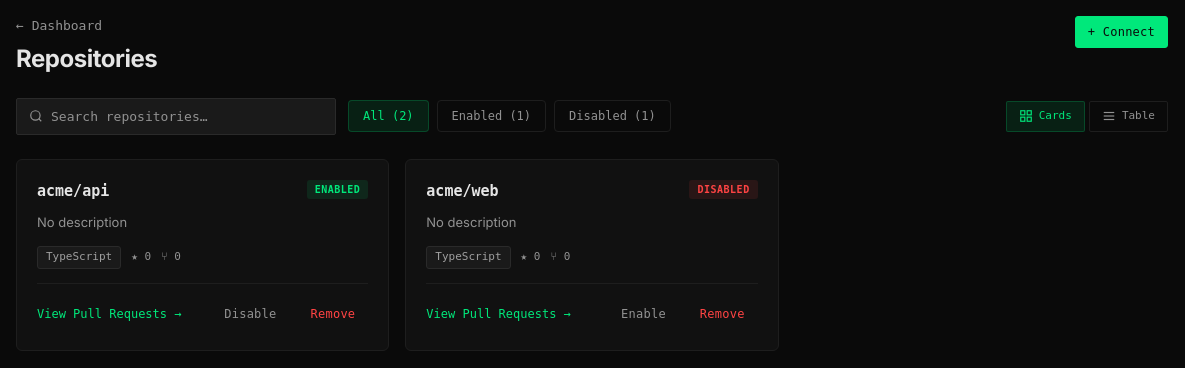
Test: RepositoryListComponent — grid, filters, search, views and connect modal › switches between the card grid and the table view
This screenshot has width=1185, height=368.
Expected: the element with test id "repo-grid" is shown, [16,159,779,350]
Click the button with test id "view-table".
click(1128, 116)  # box [1089,101,1168,132]
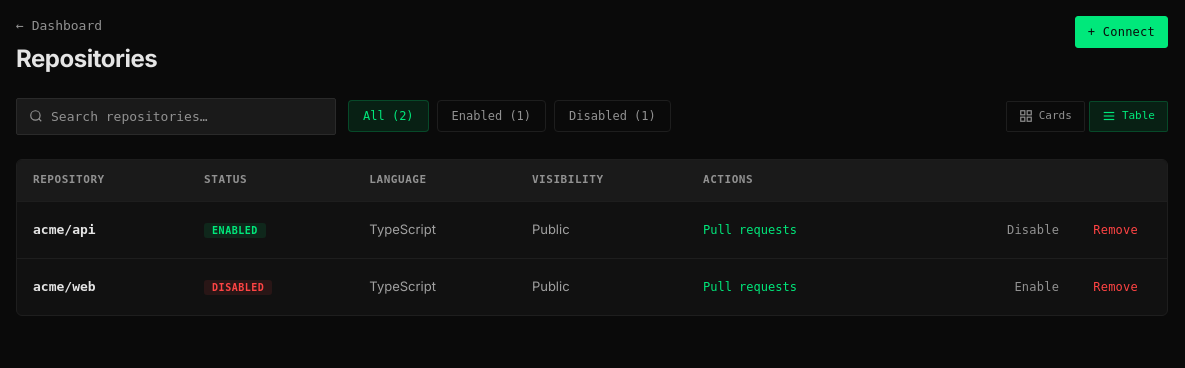
Now the element with test id "repo-table" that starts with "Repository" is shown, box [16,159,1168,316]
Now no elements with class "repo-card" are shown
Click the button with test id "view-cards".
click(1045, 116)  # box [1006,101,1085,132]
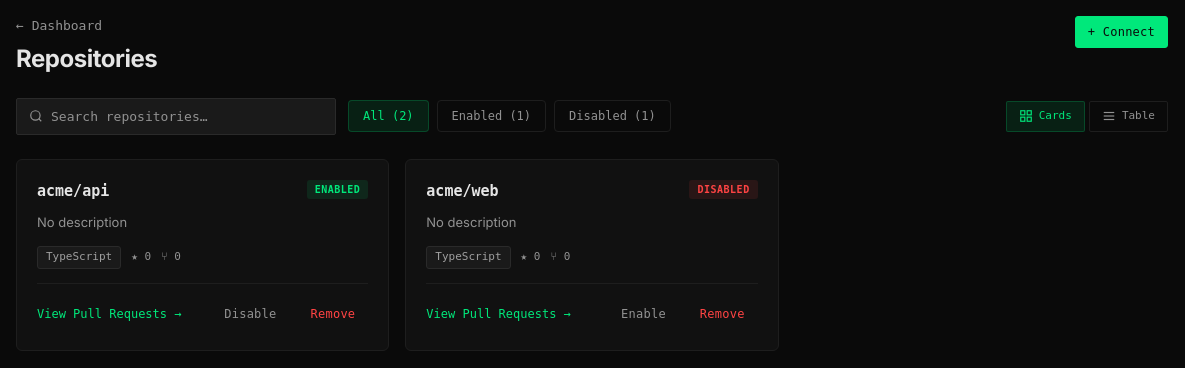
Now the element with test id "repo-grid" is shown, box [16,159,779,350]
